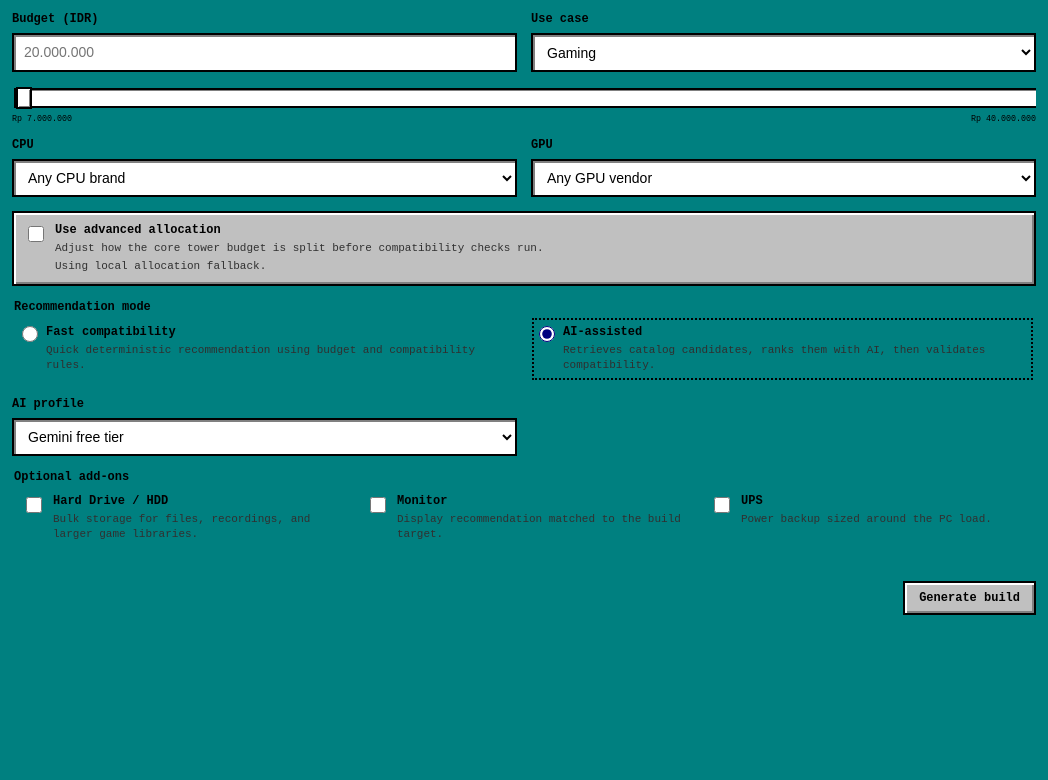
Test: build wizard › automatically recalculates advanced allocation when use case changes
Click the checkbox labelled "Use advanced allocation". click: (36, 234)
box: [28,226,44,242]
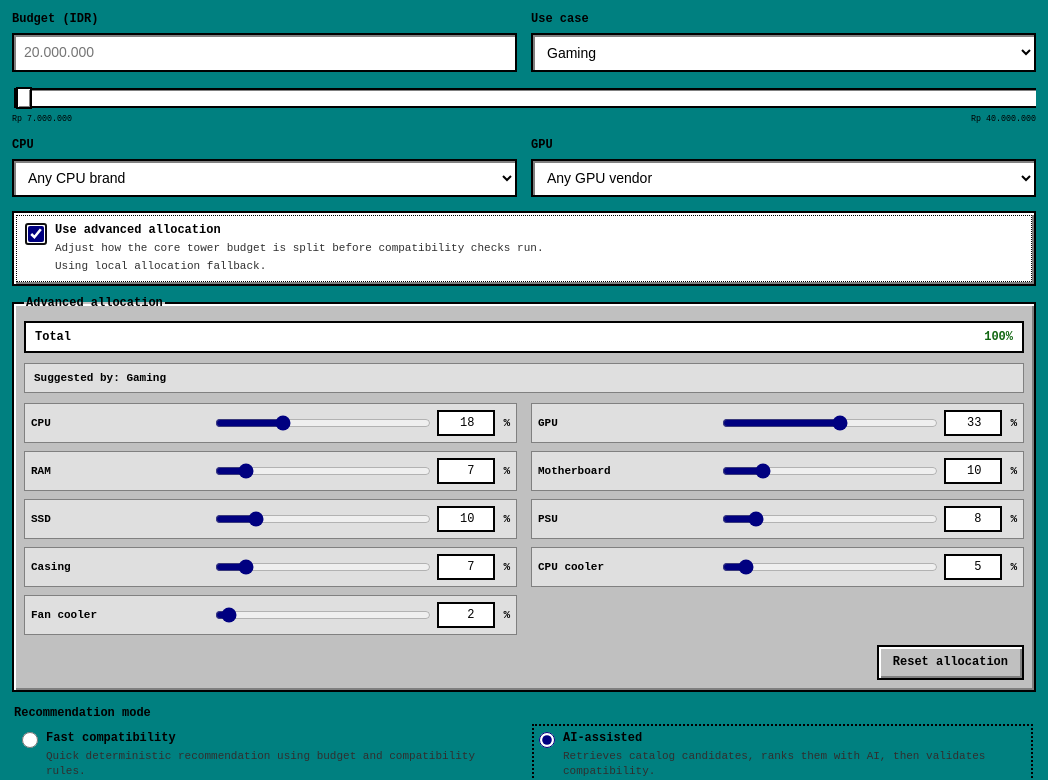
Now the number field named "CPU allocation percent" holds "18", box [437,410,495,436]
Now the number field named "GPU allocation percent" holds "33", box [944,410,1002,436]
Select "Productivity" in the dropdown labelled "Use case". click: (784, 53)
box: [531,33,1036,72]
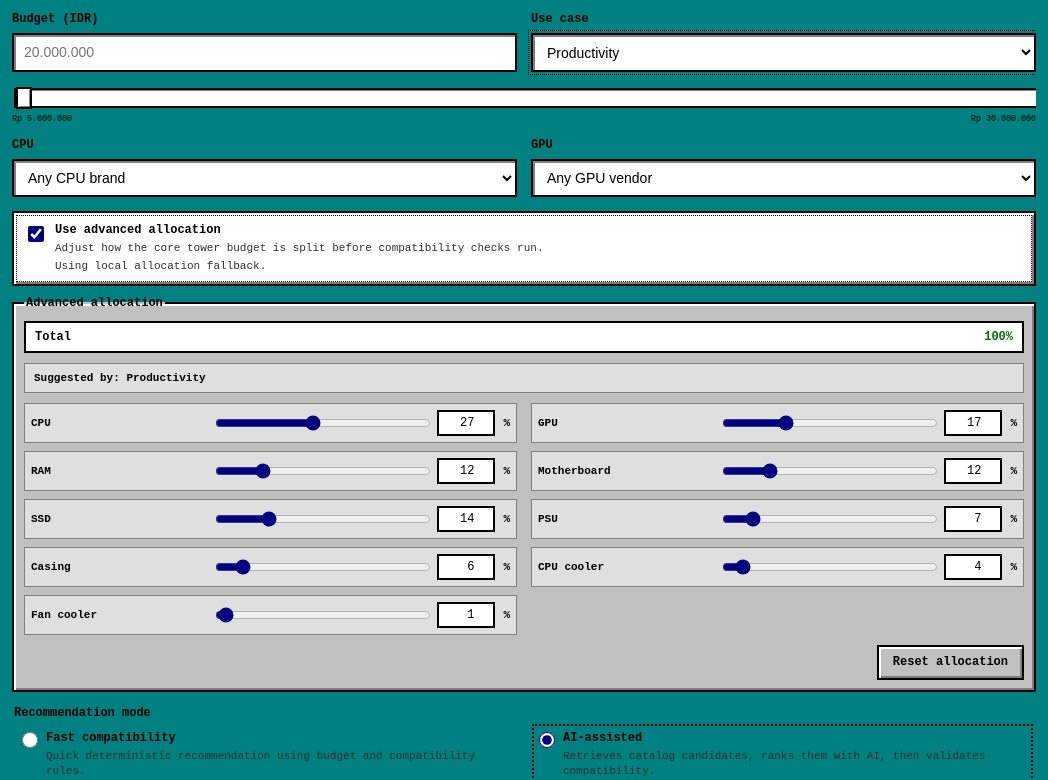
Now the number field named "CPU allocation percent" holds "27", box [437,410,495,436]
Now the number field named "GPU allocation percent" holds "17", box [944,410,1002,436]
